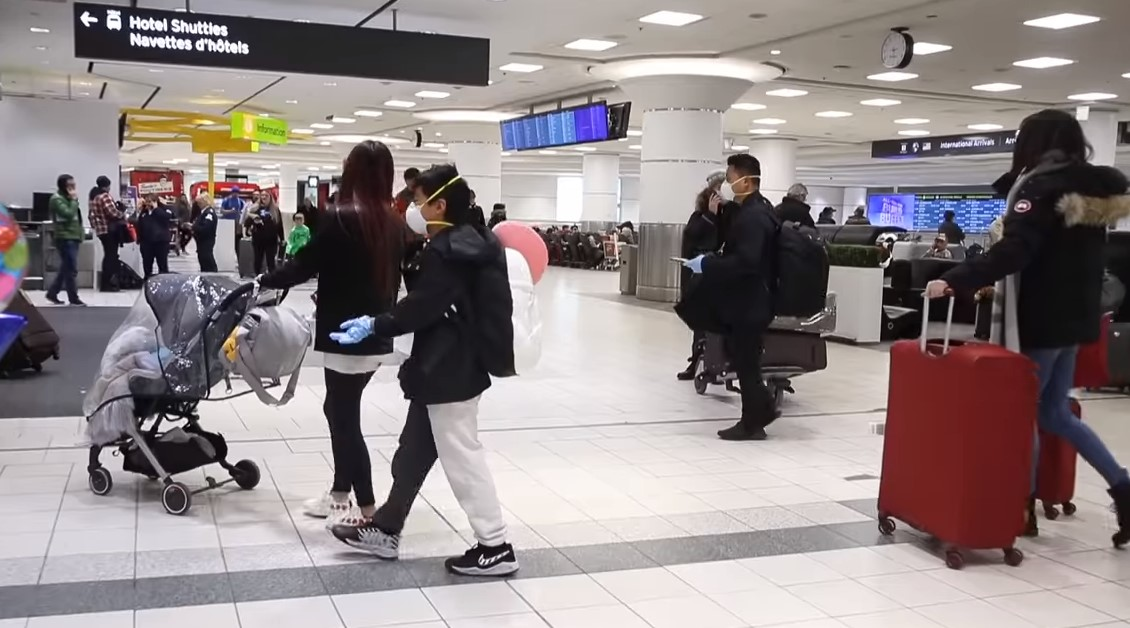face_with_mask: (401, 162, 469, 242), (718, 154, 761, 205)
